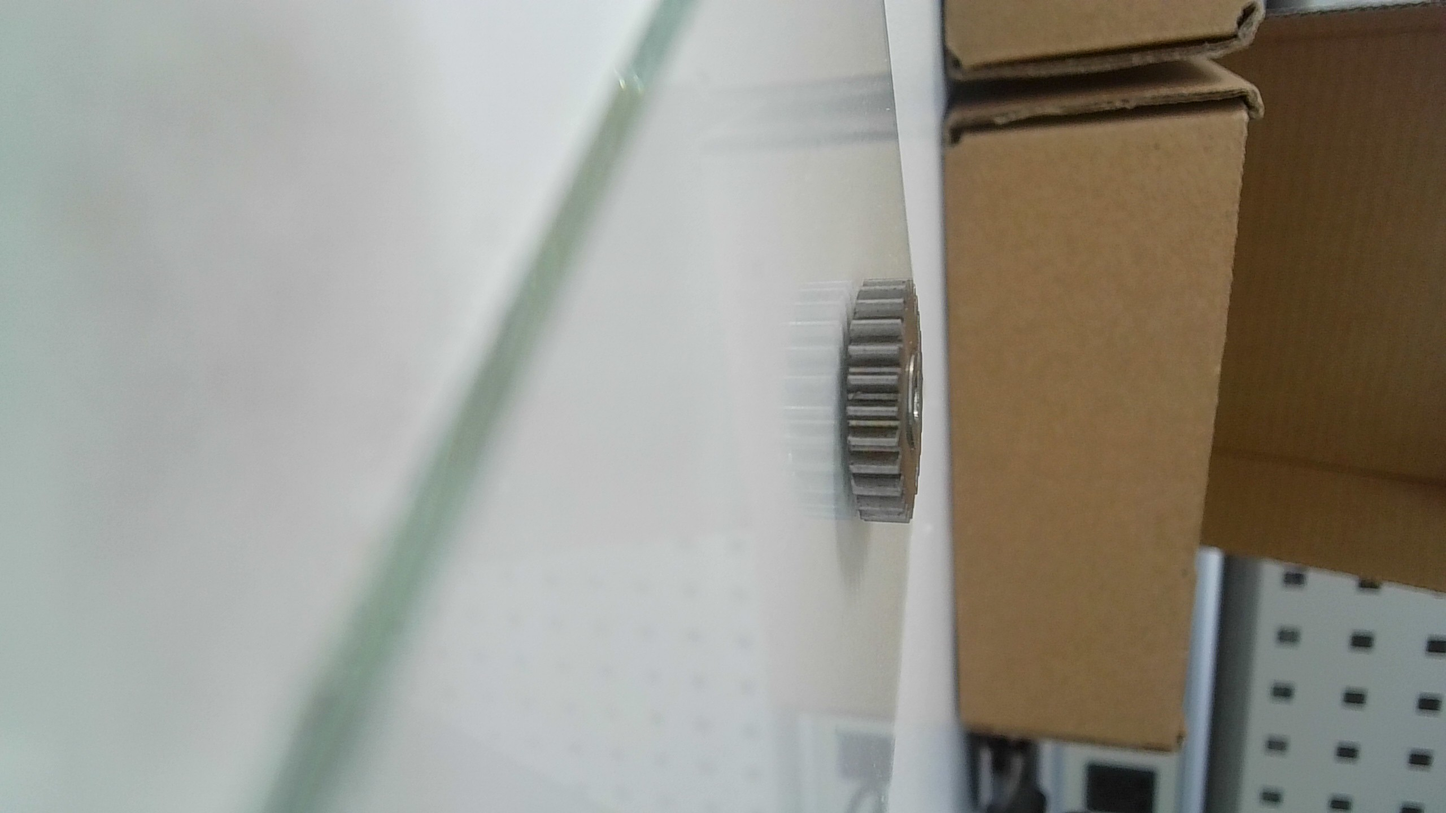gear: (837, 273, 931, 526)
